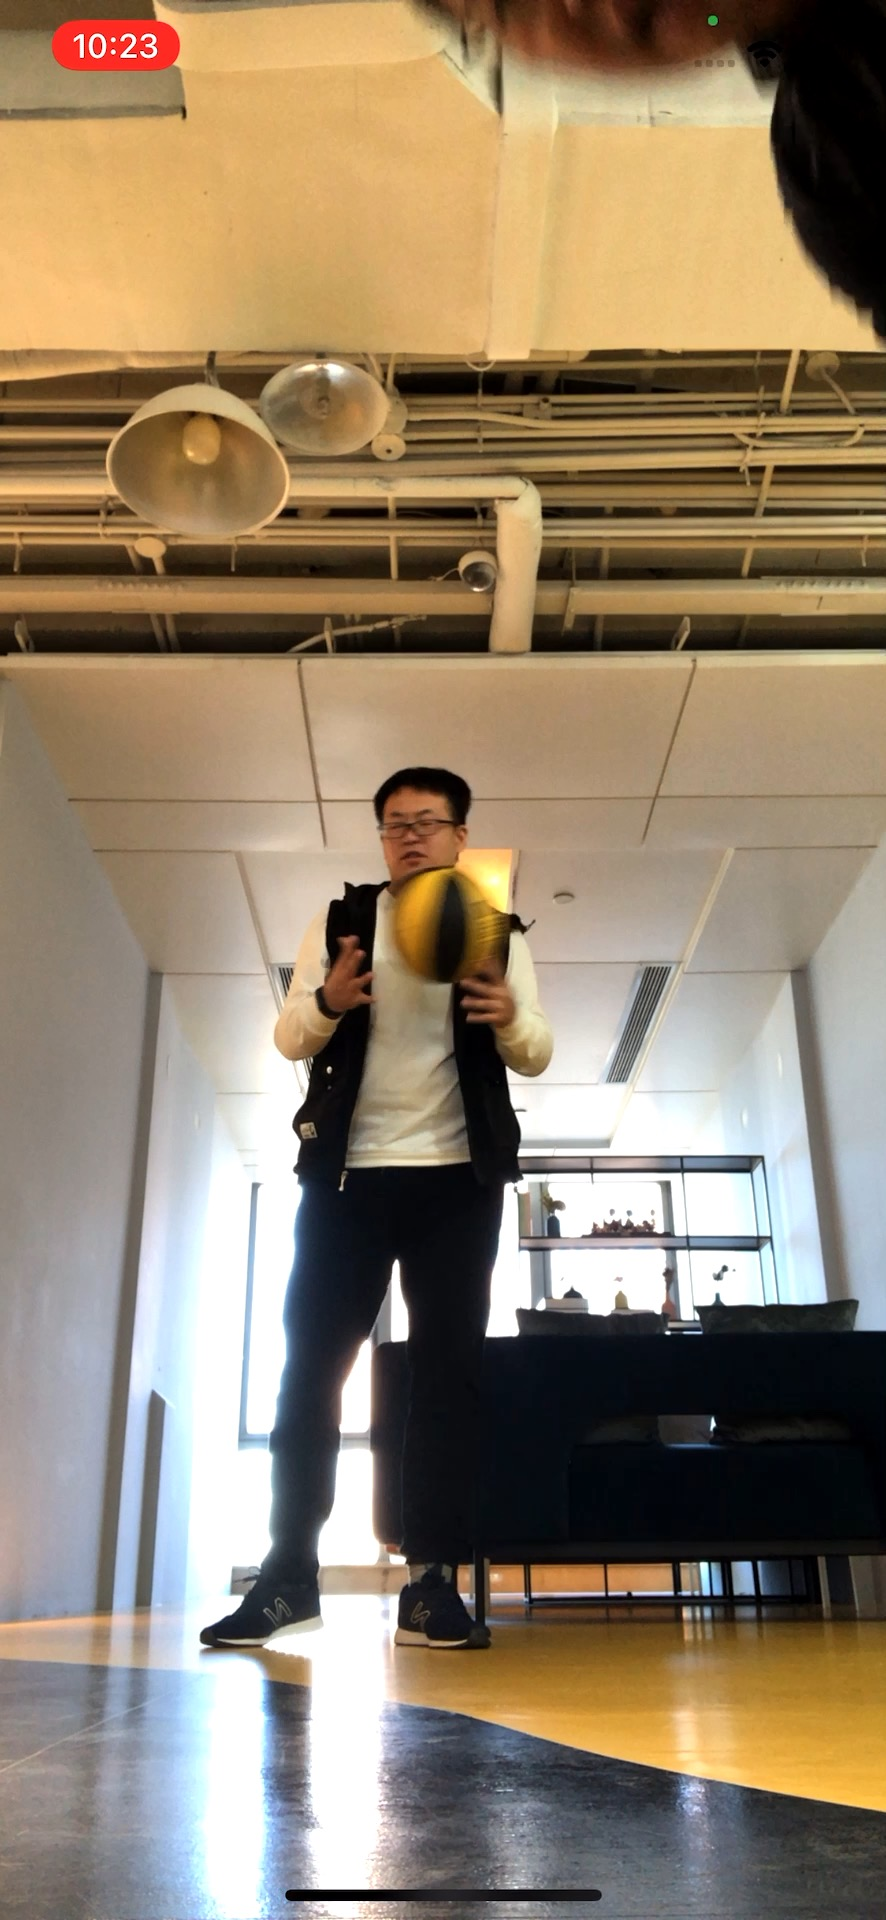ball: (394, 864, 512, 984)
